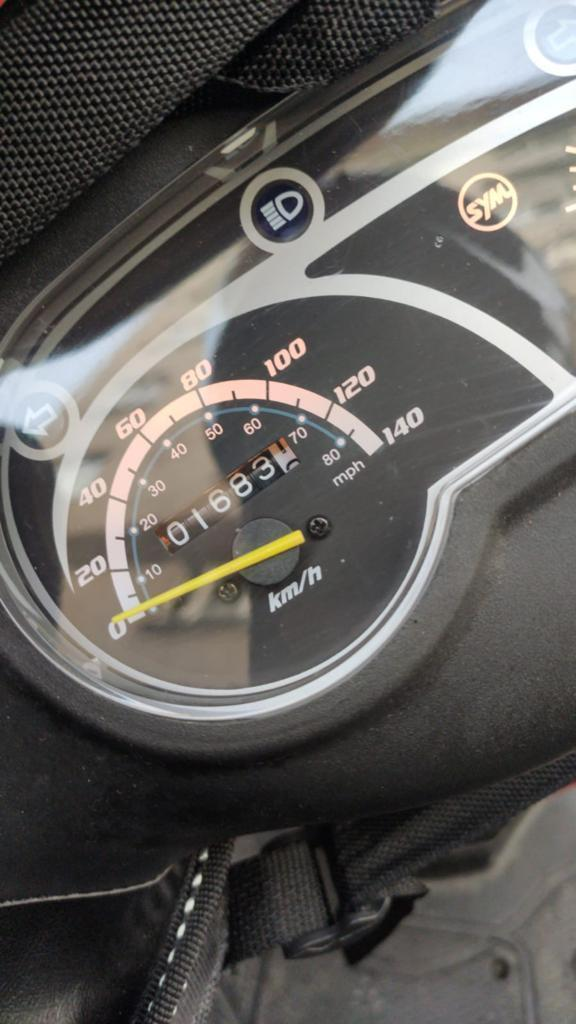0: (165, 519, 190, 546), (155, 478, 165, 492), (176, 441, 186, 455), (149, 511, 157, 526)
1: (189, 505, 209, 531), (273, 436, 287, 455)
3: (250, 454, 276, 481), (148, 484, 157, 496)
4: (168, 446, 179, 460)
5: (203, 431, 215, 440)
6: (207, 487, 231, 512)
7: (287, 431, 299, 446)
8: (228, 471, 252, 498)
odometer: (149, 431, 302, 558)
